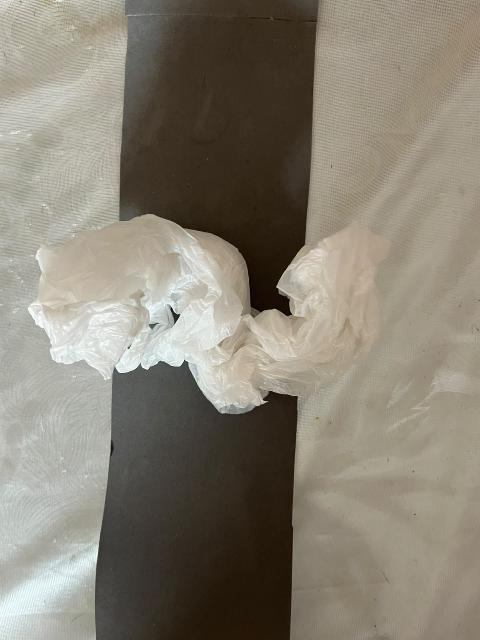LDPE: (17, 200, 409, 432)
